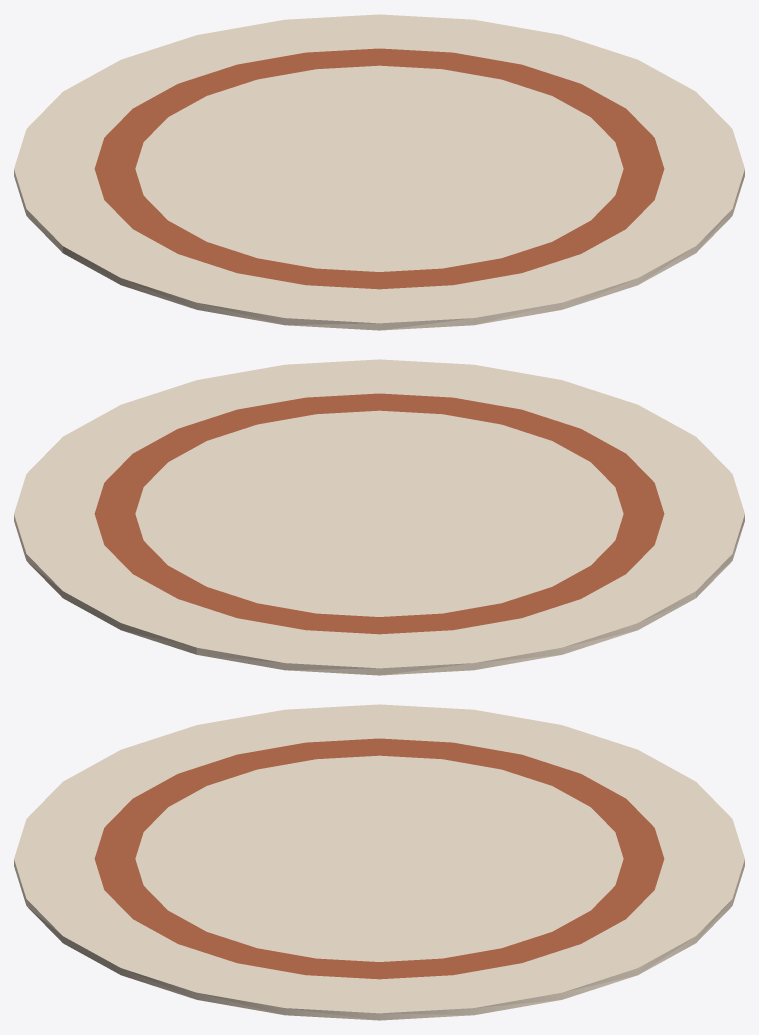
File: kitRugRound.glb
3 views of the same model, one above another, from view 1: azimuth 30°, elevation 25°; view 2: azimuth 150°, elevation 25°; view 3: azimuth 270°, elevation 25° (orthographic).
Visible parts, largest first — view 1: kitRugRound_fabric, kitRugRound_fabricDark; view 2: kitRugRound_fabric, kitRugRound_fabricDark; view 3: kitRugRound_fabric, kitRugRound_fabricDark.
Part boxes in pixels (box(x1,y1,x2,y2)): kitRugRound_fabric: box(14, 14, 744, 330); kitRugRound_fabricDark: box(94, 48, 664, 289); kitRugRound_fabric: box(14, 359, 744, 675); kitRugRound_fabricDark: box(94, 393, 664, 634); kitRugRound_fabric: box(14, 704, 744, 1020); kitRugRound_fabricDark: box(94, 738, 664, 979).
Size of the model in its own units: 1.84 by 0.02 by 1.84.
